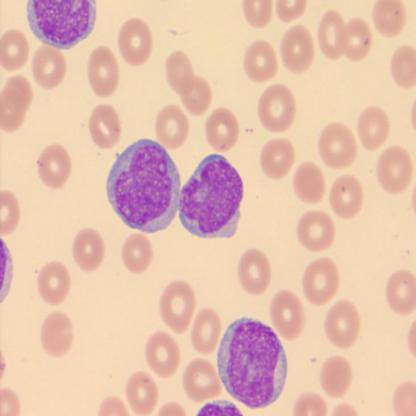Blast: (104, 138, 182, 235), (216, 315, 290, 410), (179, 151, 246, 243)
